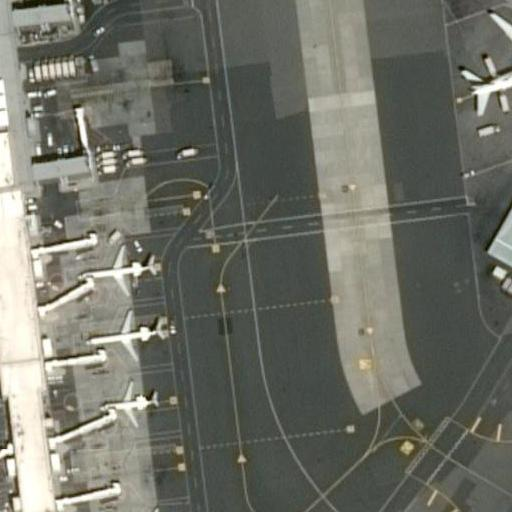Aircraft: (447, 0, 512, 139), (73, 223, 164, 303), (68, 305, 176, 368), (85, 370, 166, 437), (99, 497, 193, 512)
